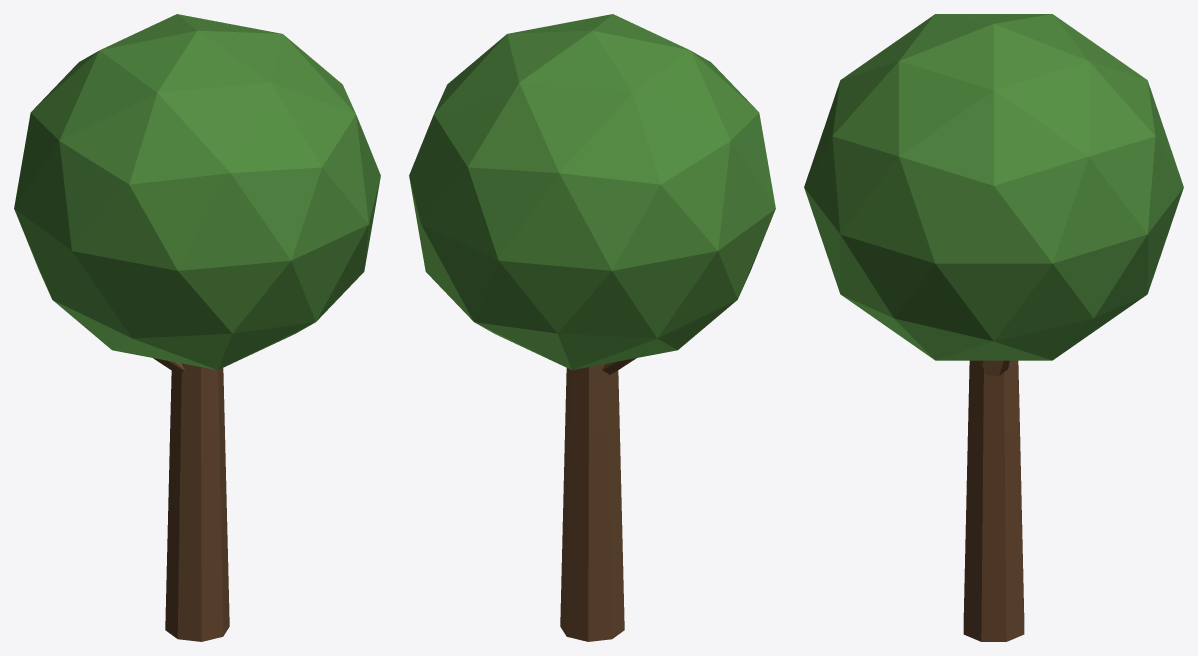
Rendered from baum.glb.
The picture shows the model from 3 angles, left to right: view 1: azimuth 30°, elevation 25°; view 2: azimuth 150°, elevation 25°; view 3: azimuth 270°, elevation 25°; orthographic projection.
Visible parts, largest first — view 1: baum_laub, baum_stamm; view 2: baum_laub, baum_stamm; view 3: baum_laub, baum_stamm.
Part boxes in pixels (x1,y1,x2,y2): baum_laub: [14, 14, 380, 369]; baum_stamm: [153, 358, 229, 641]; baum_laub: [409, 14, 775, 369]; baum_stamm: [560, 358, 636, 641]; baum_laub: [804, 14, 1183, 360]; baum_stamm: [963, 360, 1024, 641].
Bounding box in the file's own units: 2.85 × 5.28 × 3.
